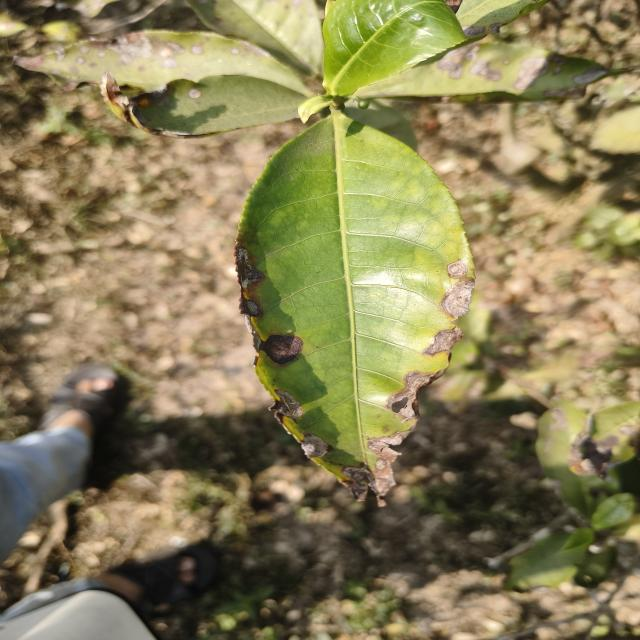Leaf: (236, 112, 474, 500), (15, 31, 302, 90), (359, 43, 617, 100), (323, 0, 465, 96), (101, 72, 304, 138), (189, 0, 324, 76), (536, 400, 591, 515), (506, 528, 593, 590), (574, 402, 640, 474), (592, 106, 640, 154), (568, 454, 596, 474)
